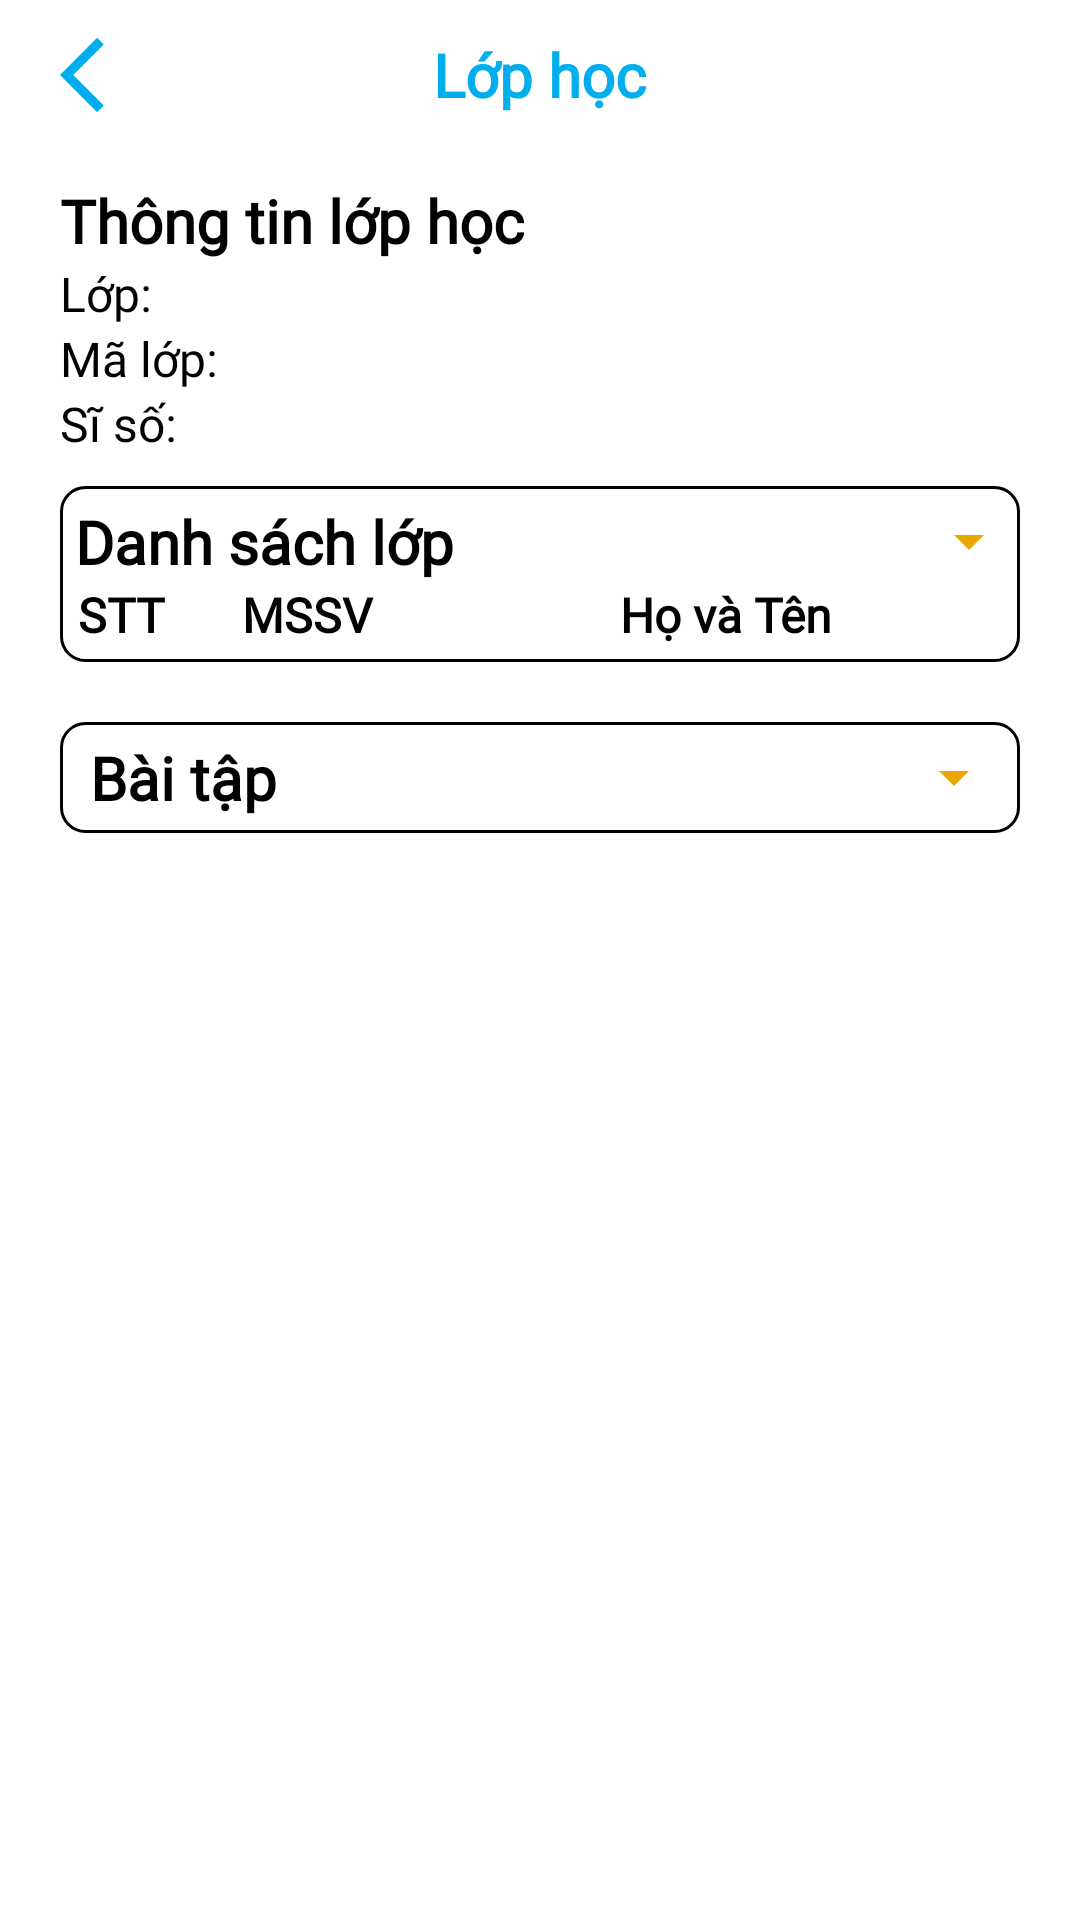

Point at icon controls on the screen. Image size 1080w x 1920h, points as [x,y].
back: [82,75]
drop down arrow: [969,542], [954,778]
